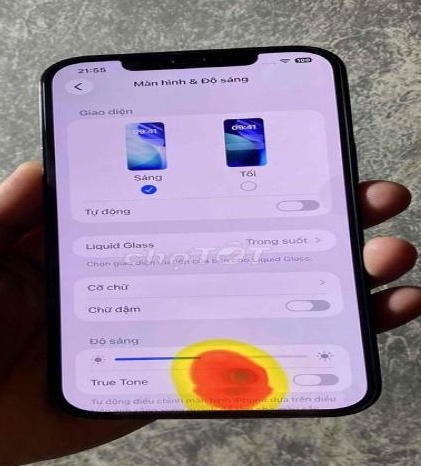screen_defect: (163, 314, 286, 423)
